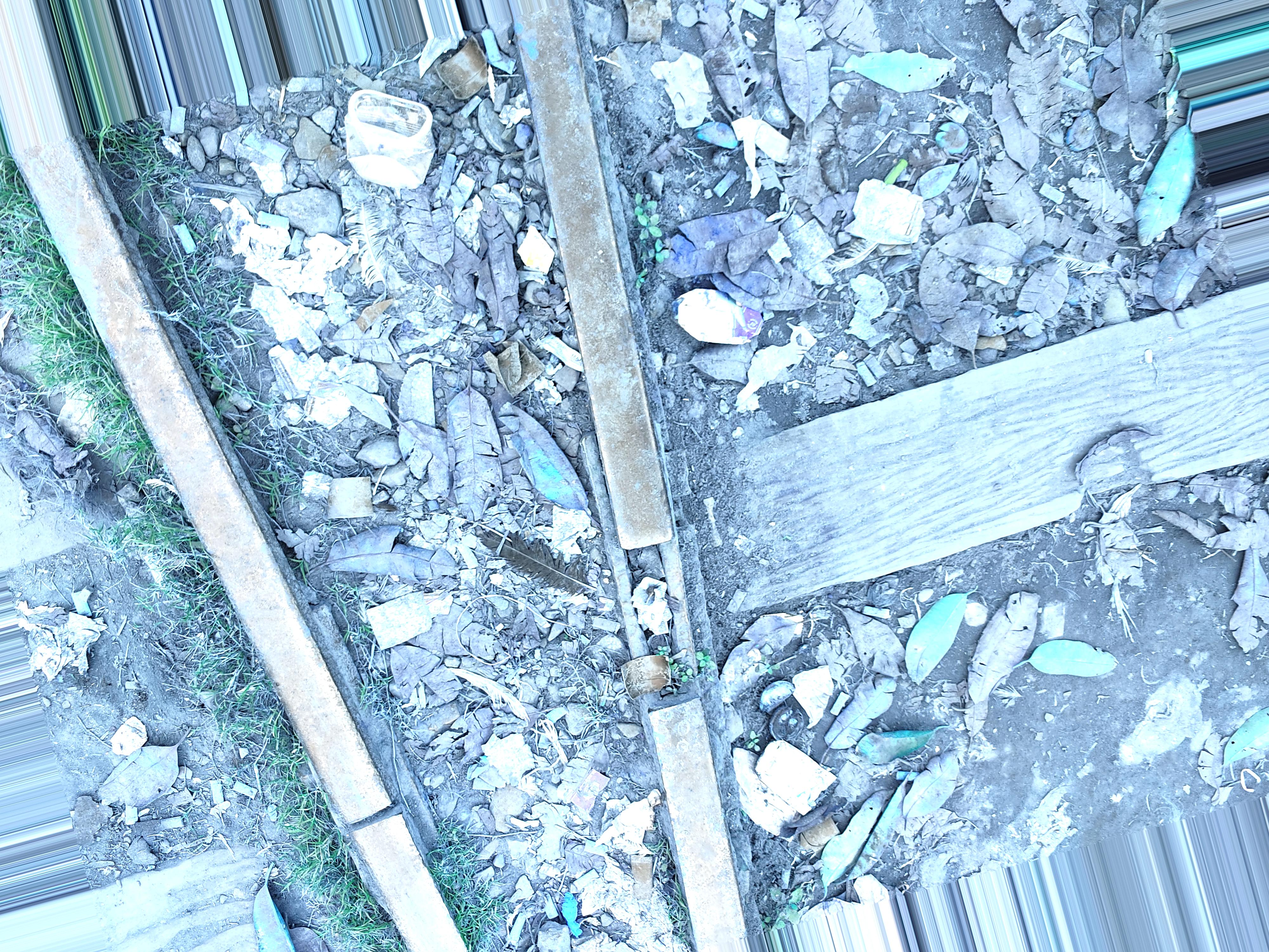tracks_fault: (547, 497, 753, 825), (271, 706, 430, 896)
